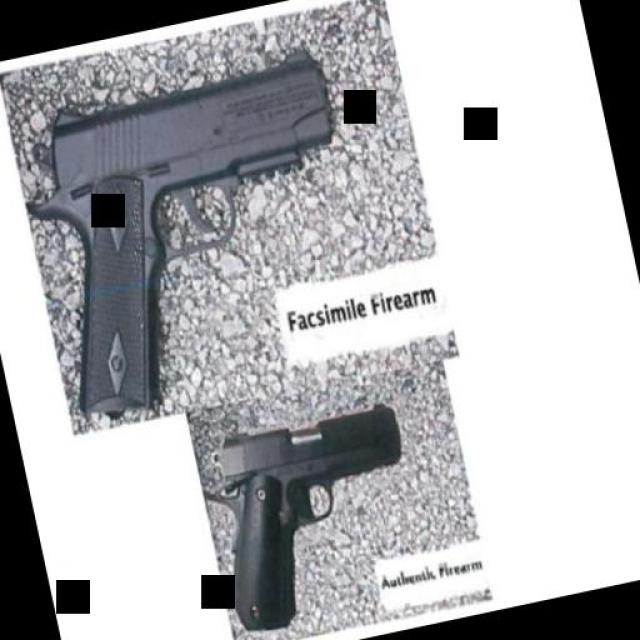gun: (8, 32, 380, 430), (192, 376, 438, 640)
